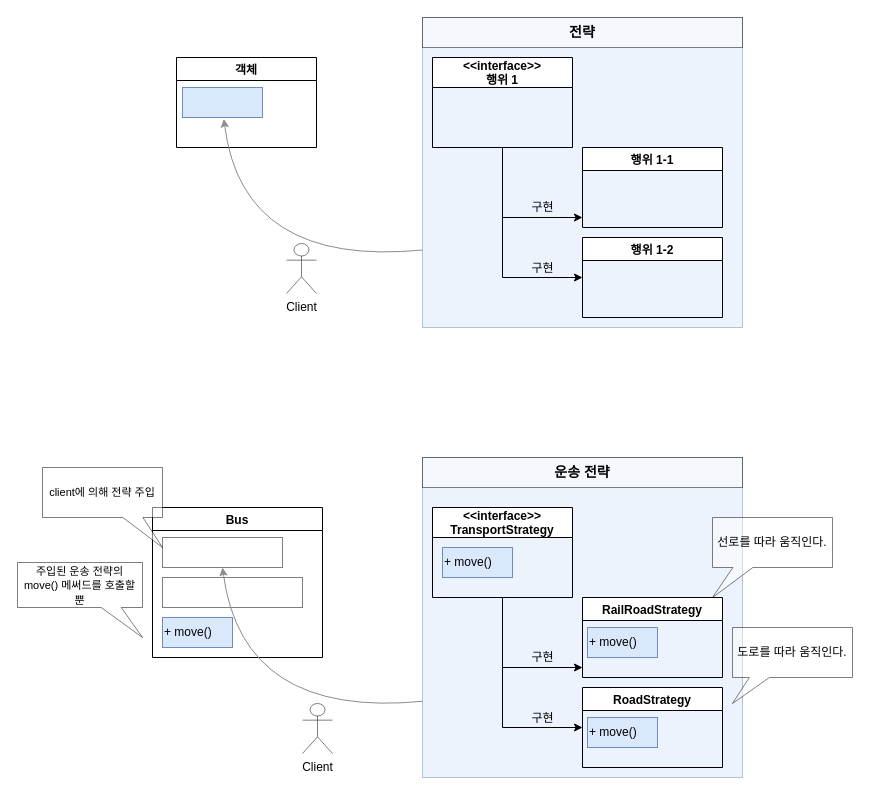
The diagram is 870 pixels wide and 795 high, and some of its shapes have lost their labels. The shapes that lost their labels are listed below. From the top down, each one's centre as x and y in pixels, then its label:
At pixel 222 102: "- 전략 객체".
At pixel 222 552: "- _transportStrategy".
At pixel 232 592: "+ setTransportStrategy()".
